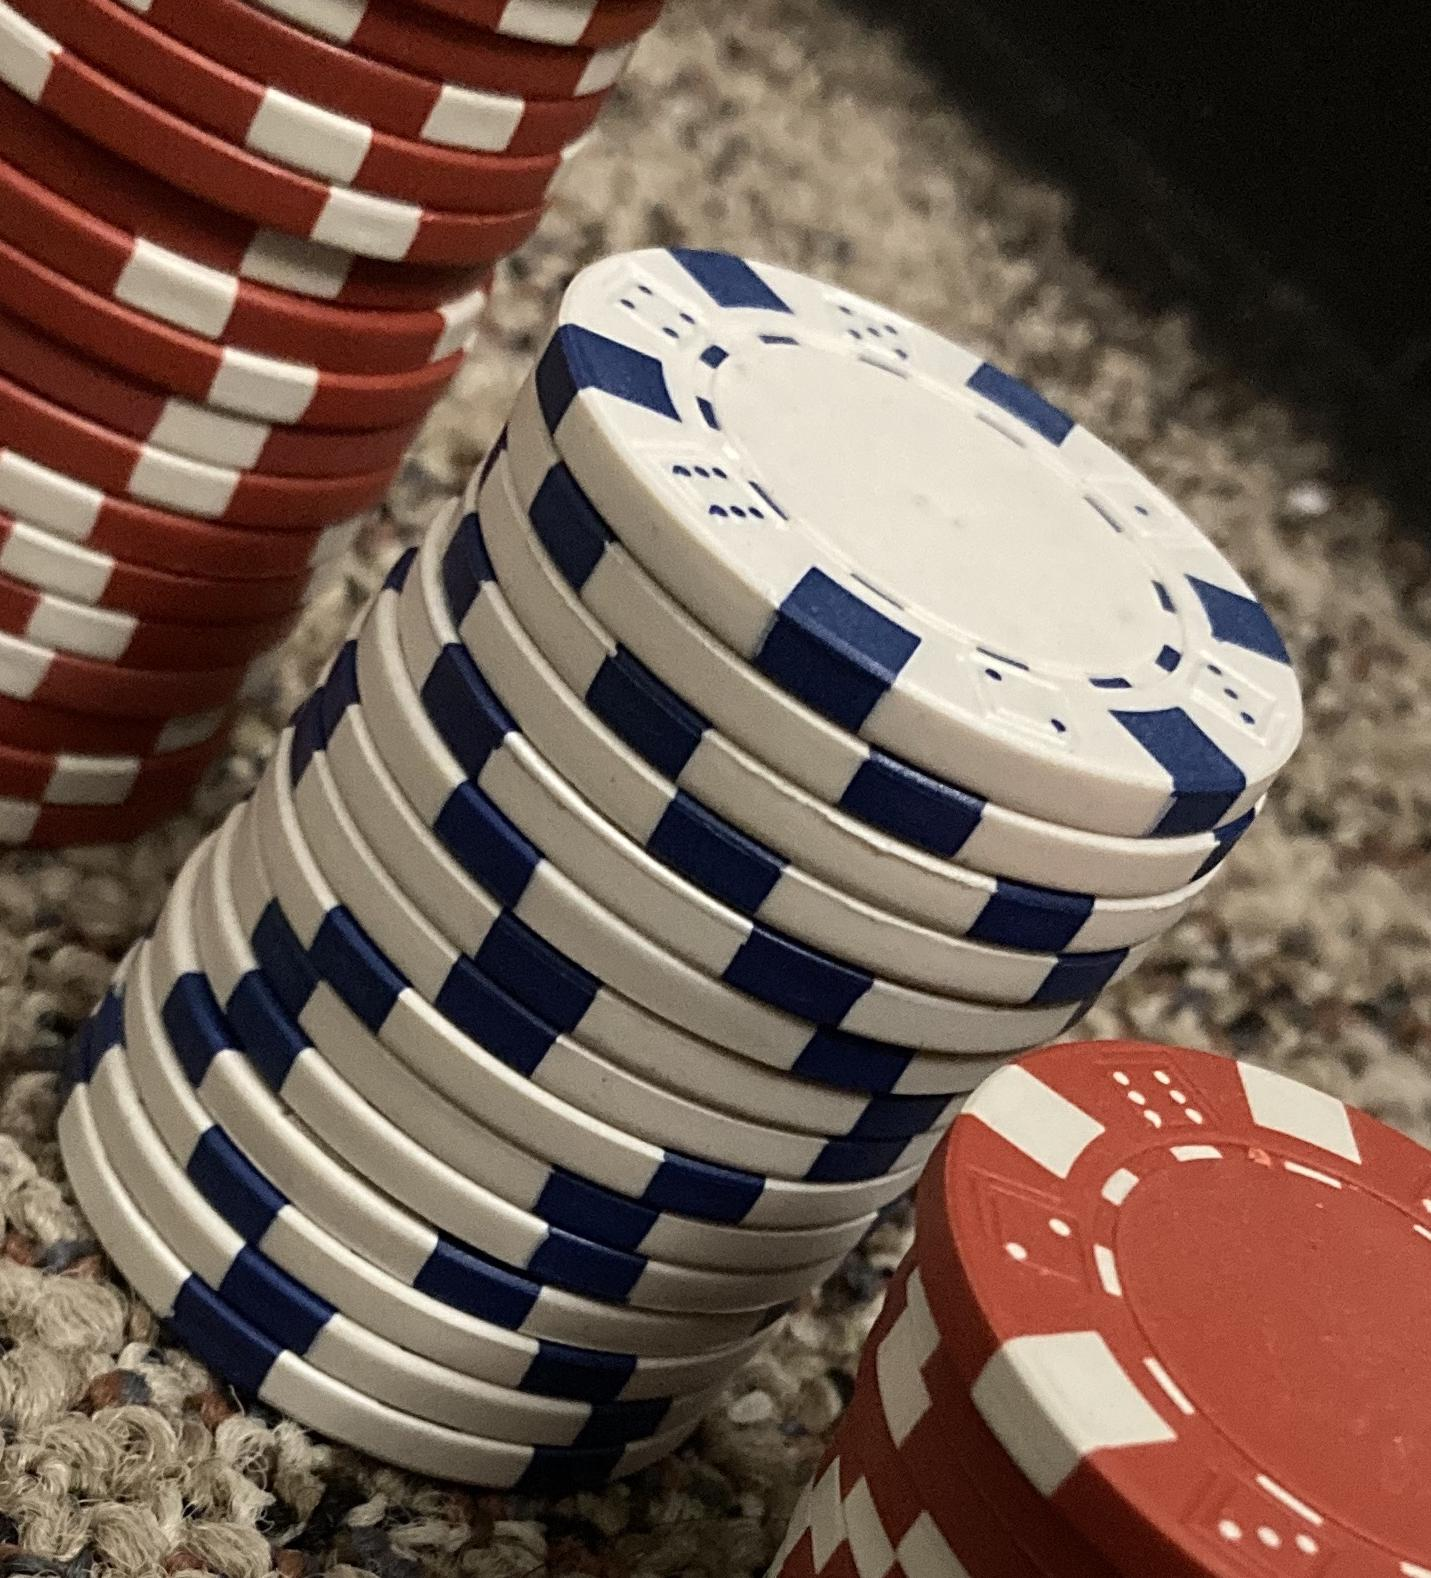Chip: (1, 1, 1431, 1578)
